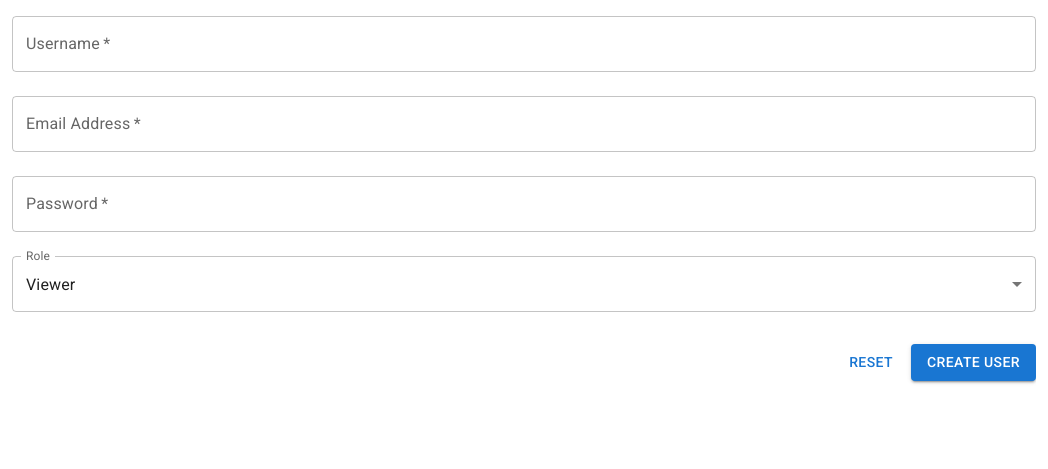
Test: UserForm Component › validates form fields in create mode and shows validation errors
This screenshot has width=1048, height=469.
Submit the form without filling in any fields
Step 1. Click the button "Create User" → (974, 362), box x1=911 y1=344 x2=1036 y2=380
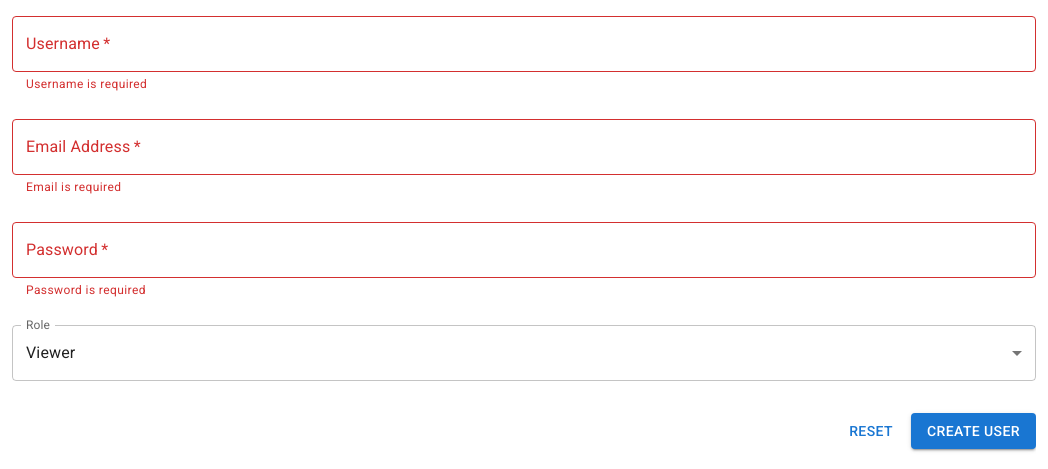
Check: the text "Username is required" is shown, box x1=26 y1=77 x2=147 y2=91
Check: the text "Email is required" is shown, box x1=26 y1=180 x2=121 y2=194
Check: the text "Password is required" is shown, box x1=26 y1=283 x2=146 y2=297
